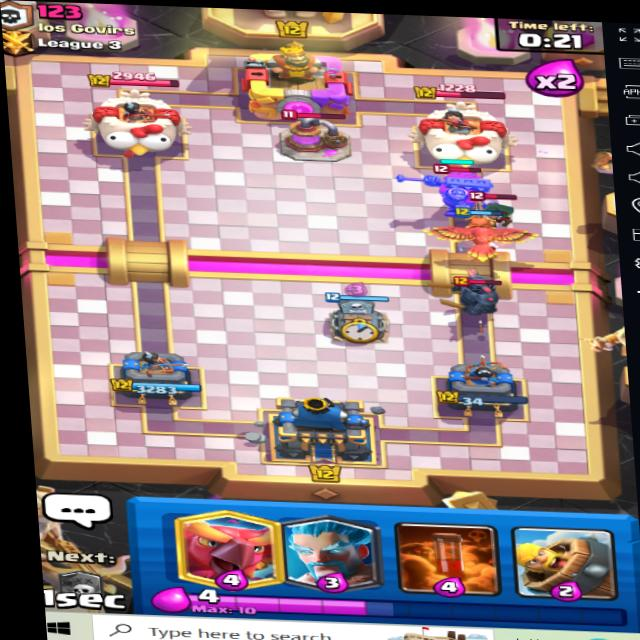bandit: (468, 194, 530, 229)
elixir-collector: (259, 110, 354, 163)
pekka: (426, 267, 512, 327)
skeleton-king: (378, 161, 497, 222)
